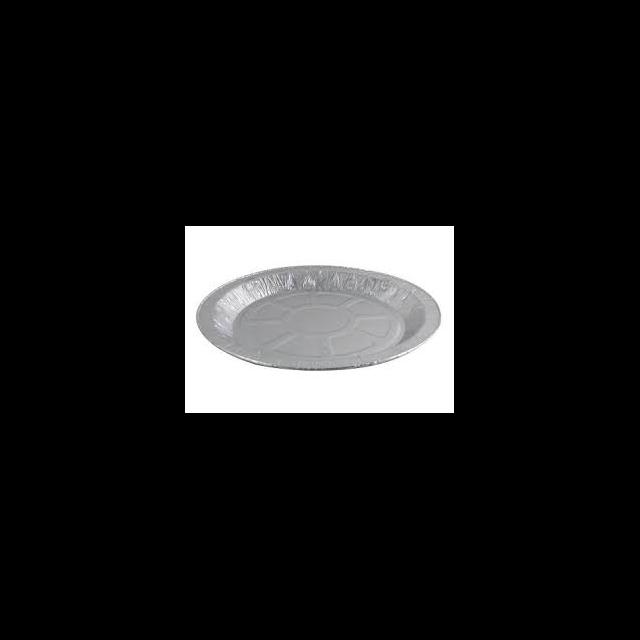metal: (196, 264, 440, 372)
